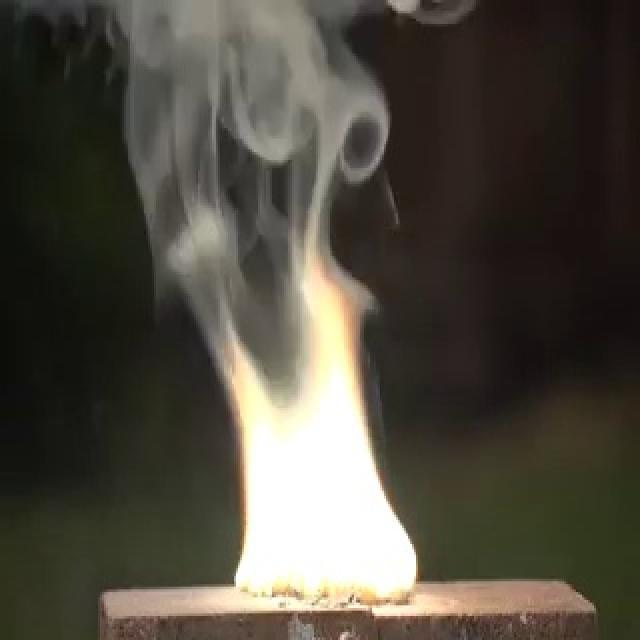fire: (222, 258, 420, 608)
